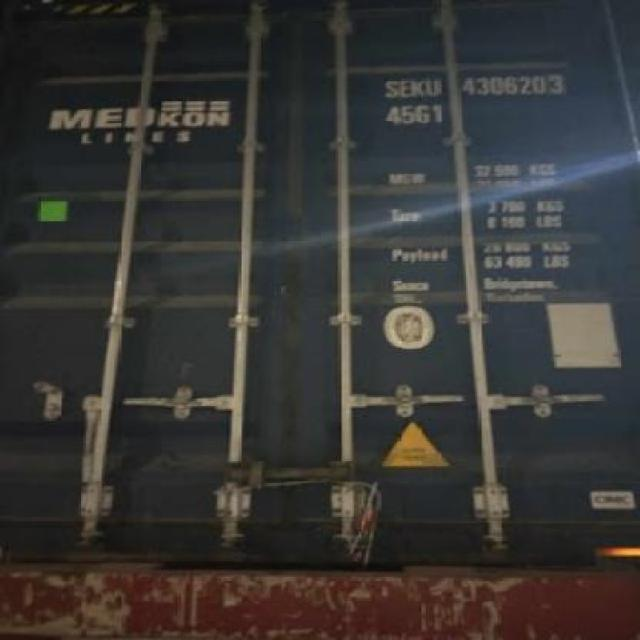ISO: (386, 106, 448, 130)
container_number: (388, 72, 564, 98)
